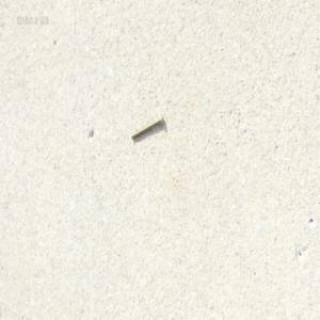Bolttrack_idkeyframe: (130, 113, 162, 139)
